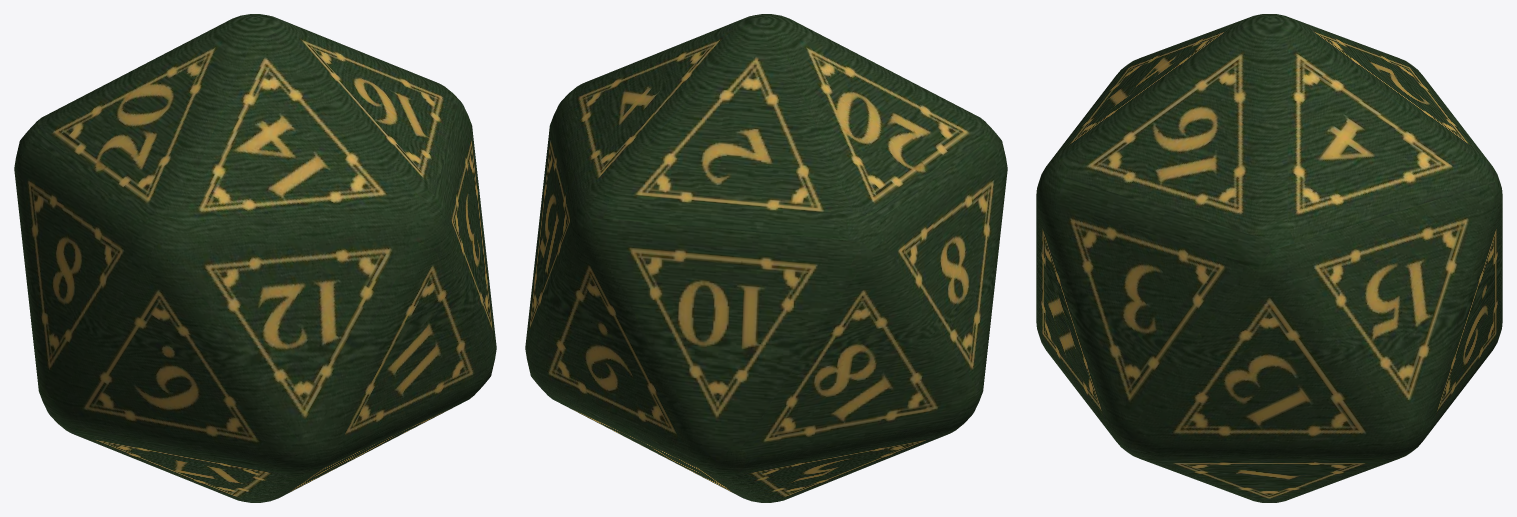
Rendered from bosmer-d20.glb.
3 views of the same model, side by side, from view 1: azimuth 30°, elevation 25°; view 2: azimuth 150°, elevation 25°; view 3: azimuth 270°, elevation 25° (orthographic).
Parts seen in each view (by area): view 1: bosmer_d20; view 2: bosmer_d20; view 3: bosmer_d20.
Part boxes in pixels (bbox=[...]): bosmer_d20: bbox=[14, 14, 496, 502]; bosmer_d20: bbox=[525, 14, 1007, 502]; bosmer_d20: bbox=[1036, 14, 1502, 502].
Size of the model in its own units: 1.74 by 1.9 by 1.67.
Materials: 1 (1 with a texture image).
